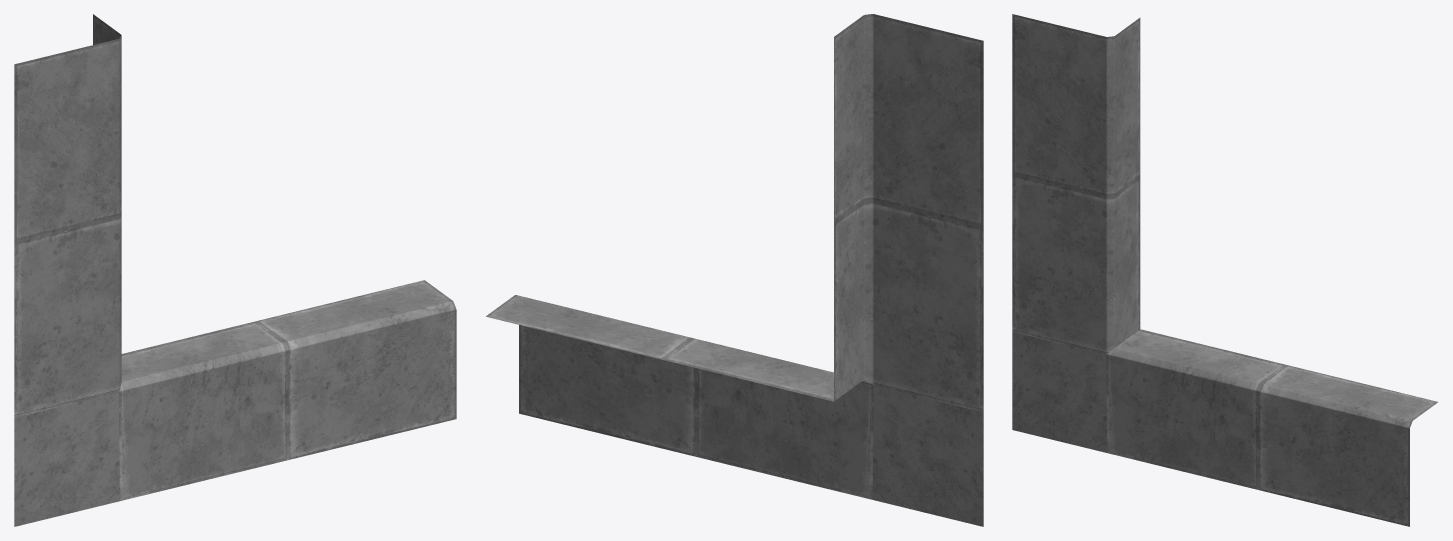
Rendered from SM_Wall_30.fbx.
3 renders of one model, left to right at view 1: azimuth 30°, elevation 25°; view 2: azimuth 150°, elevation 25°; view 3: azimuth 330°, elevation 25°, orthographic. The views are drawn at different scales.
Visible parts, largest first — view 1: SM_Wall_31; view 2: SM_Wall_31; view 3: SM_Wall_31.
Part boxes in pixels (x1,y1,x2,y2): SM_Wall_31: (14, 14, 456, 526); SM_Wall_31: (486, 14, 983, 526); SM_Wall_31: (1012, 14, 1437, 526).
Bounding box in the file's own units: 400 × 400 × 50.
